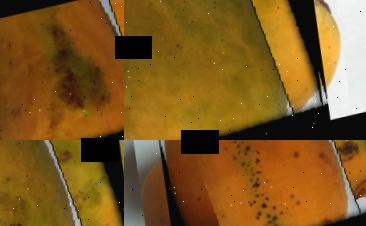PartiallyRipe: (124, 0, 332, 140), (0, 140, 124, 226)
Ripe: (155, 140, 366, 226), (0, 0, 124, 140)
